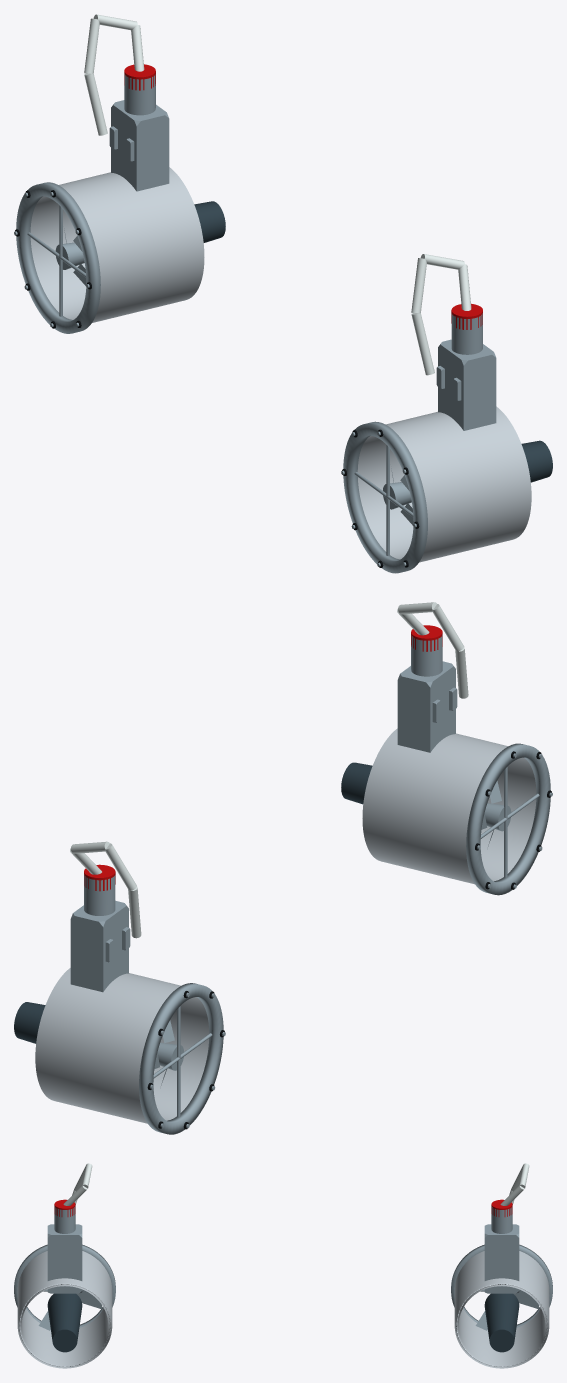
The model's file is thrusters.dae.
3 renders of one model, top to bottom at view 1: azimuth 30°, elevation 25°; view 2: azimuth 150°, elevation 25°; view 3: azimuth 270°, elevation 25°, orthographic. The views are drawn at different scales.
Parts seen in each view (by area): view 1: node3, node0, node2, node4, node1; view 2: node3, node0, node2, node4, node1; view 3: node3, node0, node4, node2, node1.
Boxes of the visible parts, x1,y1,x2,y2 form: node3: [30, 167, 531, 562]; node0: [14, 74, 496, 573]; node2: [84, 14, 471, 375]; node4: [194, 201, 552, 482]; node1: [124, 64, 482, 329]; node3: [35, 728, 536, 1123]; node0: [70, 635, 552, 1134]; node2: [70, 602, 468, 938]; node4: [14, 762, 372, 1043]; node1: [84, 625, 442, 891]; node3: [17, 1251, 549, 1368]; node0: [14, 1206, 552, 1330]; node4: [47, 1293, 519, 1352]; node2: [63, 1163, 529, 1205]; node1: [54, 1199, 512, 1216].
Size of the model in its own units: 0.314 by 1.33 by 0.5184.
